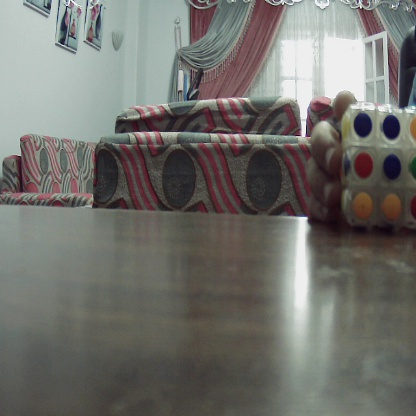Rubix Cube: (340, 106, 416, 226)
